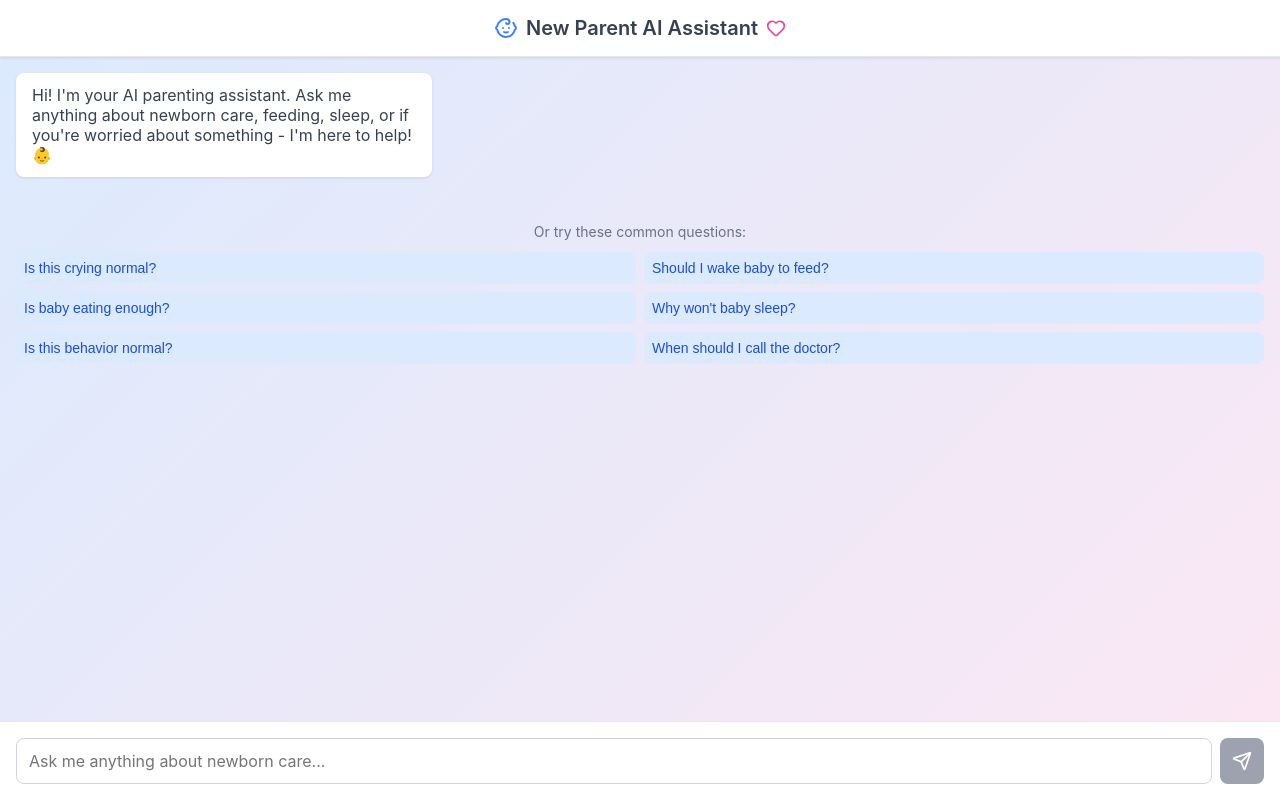
Test: App Component › allows user to type and send message
Type "Is my baby sleeping enough?" into the text box with placeholder "Ask me anything about newborn care..." at coordinates (614, 761), box [16, 738, 1212, 784]
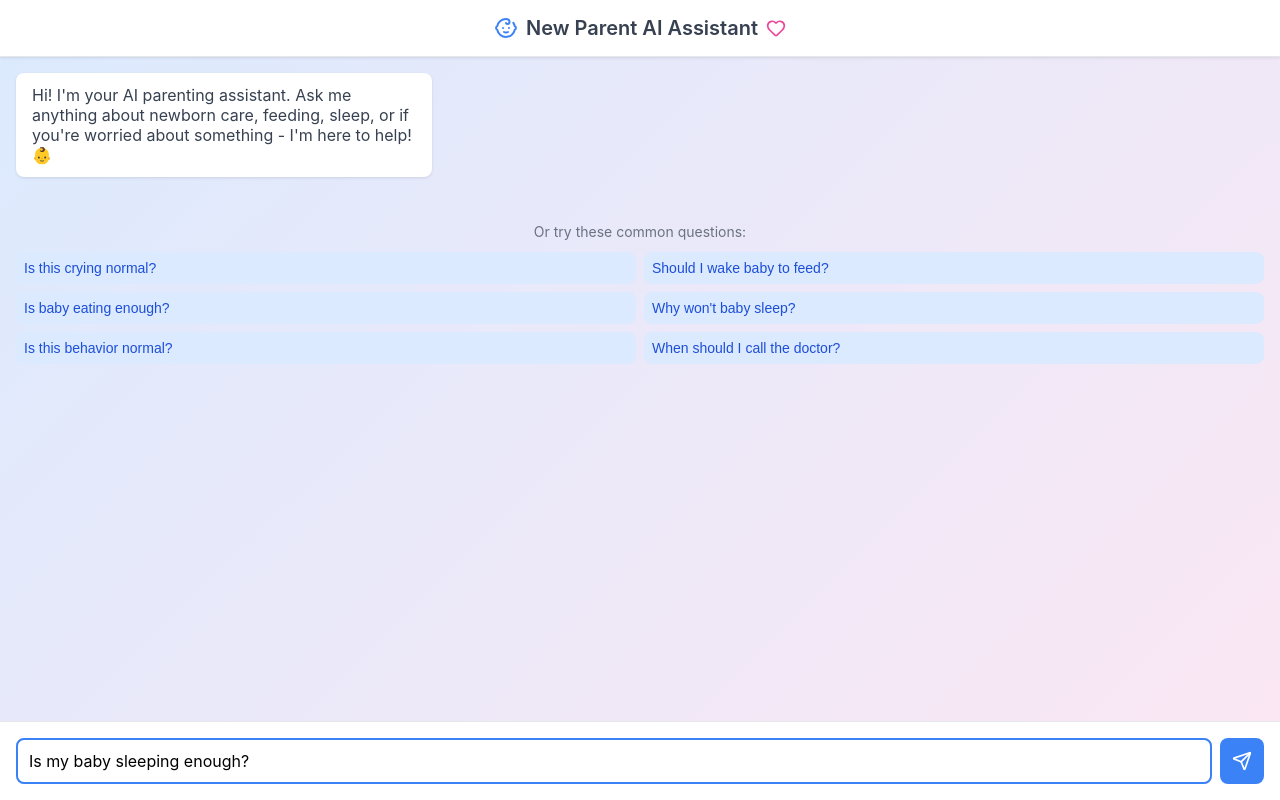
Click the button with test id "send-button" at coordinates (1242, 761), box [1220, 738, 1264, 784]
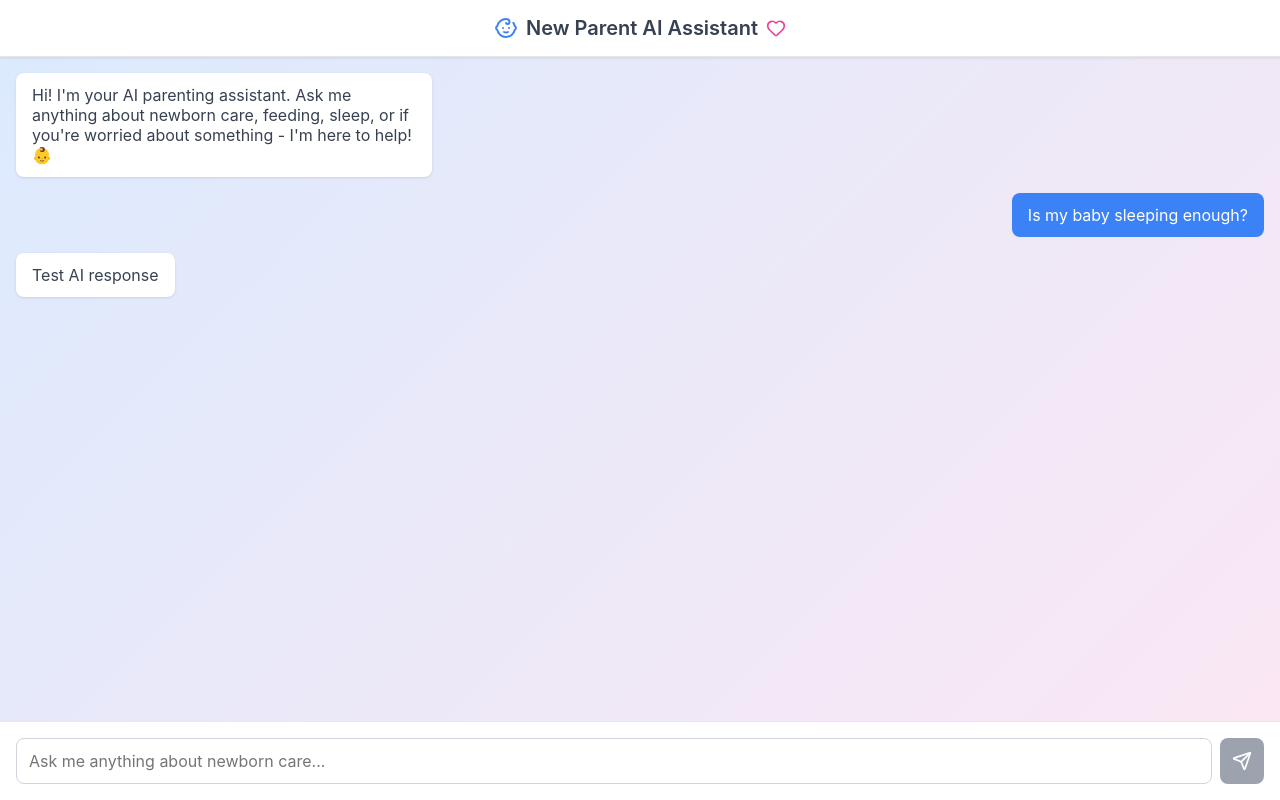
Result: the text "Is my baby sleeping enough?" is shown at [1012, 193, 1264, 237]
Result: the text "Test AI response" is shown at [16, 253, 175, 297]
